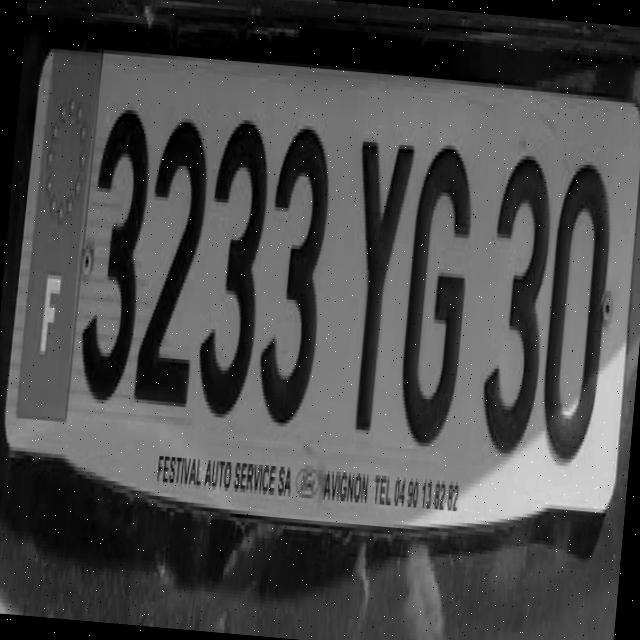EU: (2, 54, 639, 524)
France: (5, 49, 104, 456)
